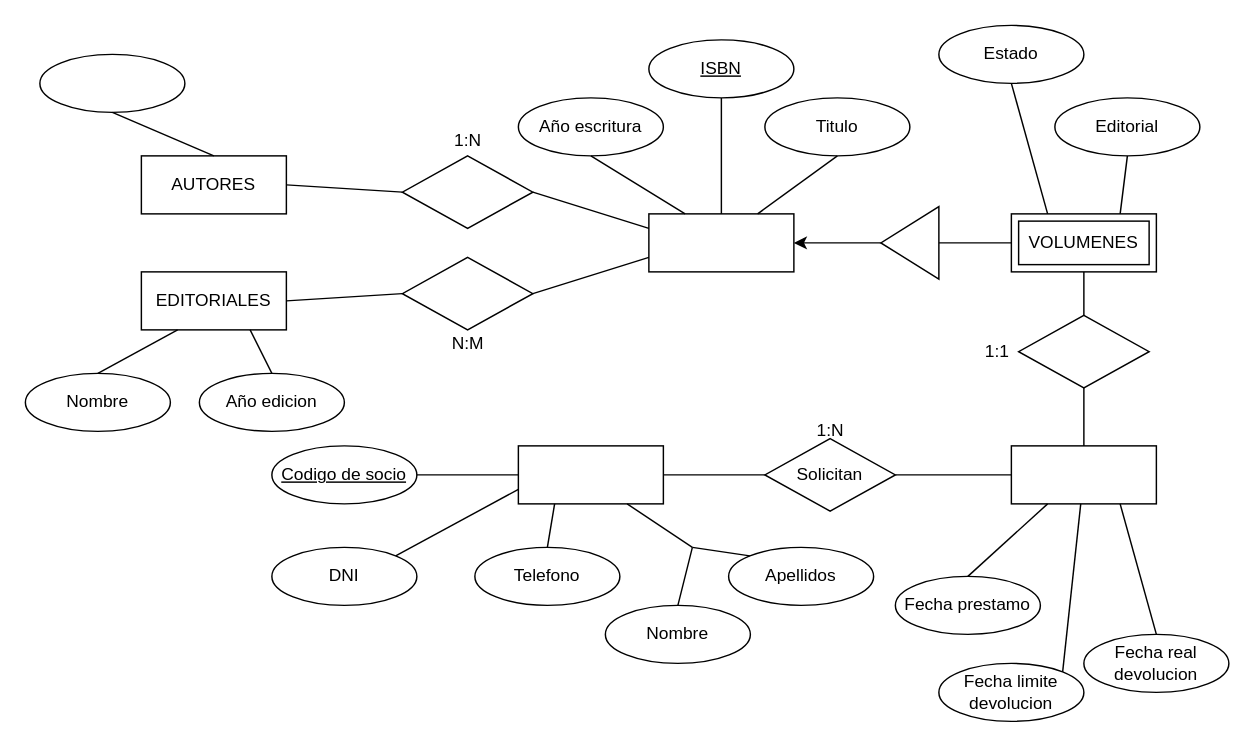
Some shapes in this 1254 by 747 pixel diagram are drawn without their labels. Each missing label, with the box of its shape:
Editan: (401, 256, 533, 330)
Escriben: (401, 154, 533, 228)
LIBROS: (647, 212, 794, 272)
Nombre completo: (38, 53, 185, 112)
PRESTAMO: (1010, 444, 1156, 504)
Reservan: (1017, 314, 1149, 388)
SOCIOS: (517, 444, 663, 504)
